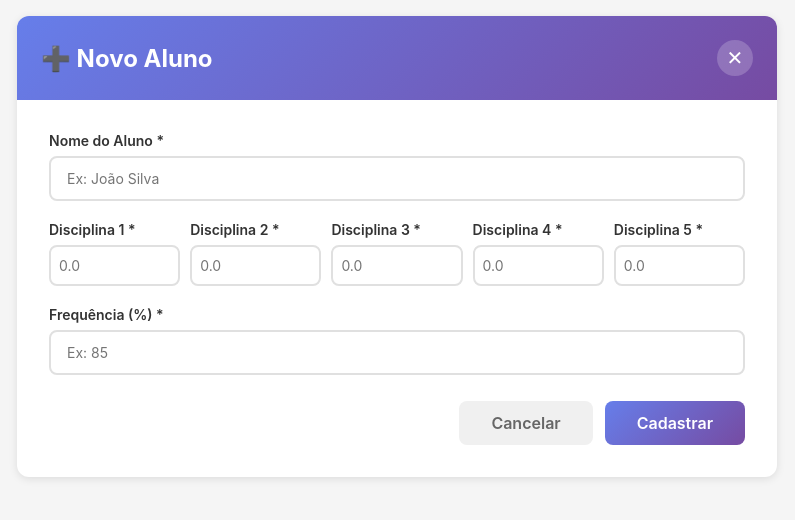
Test case: StudentForm › shows error when attendance is out of range
The image size is (795, 520).
Step 1. Type "Aluno Teste" into the field labelled "Nome do Aluno *" → (397, 178), box 49,156 -> 745,201
Step 2. Type "8" into the number field labelled "Disciplina 1 *" → (115, 266), box 49,245 -> 180,286
Step 3. Type "8" into the number field labelled "Disciplina 2 *" → (256, 266), box 190,245 -> 321,286
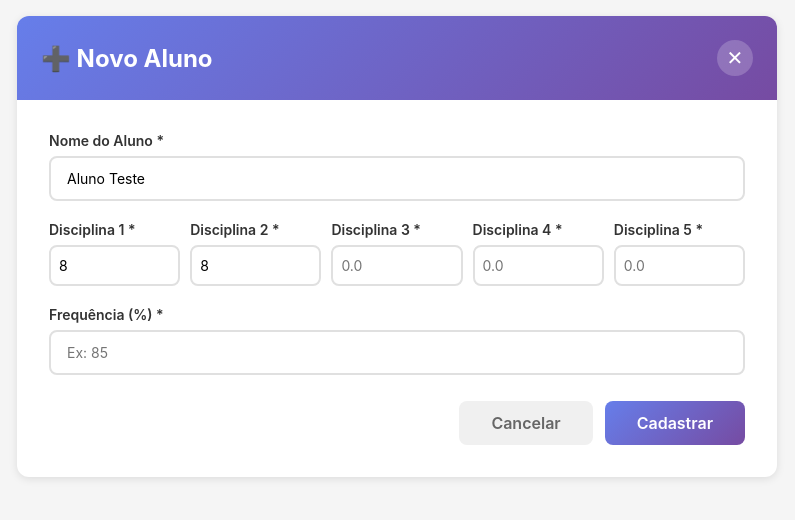
Step 4. Type "8" into the number field labelled "Disciplina 3 *" → (397, 266), box 331,245 -> 463,286
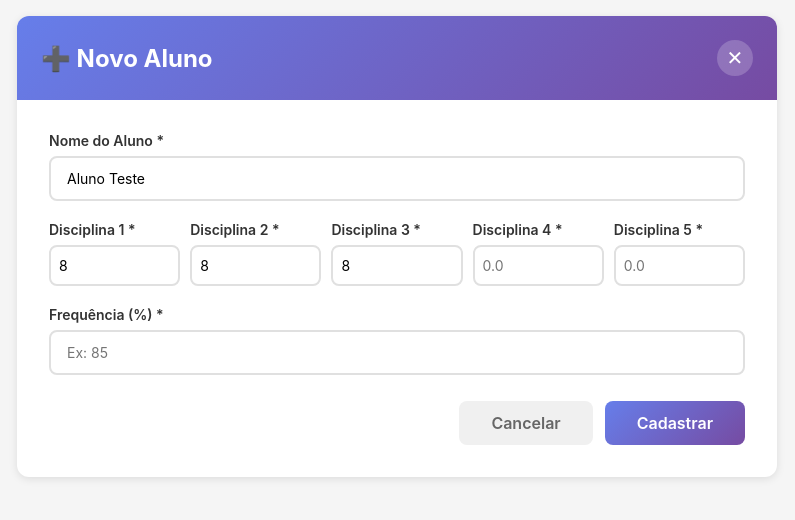
Step 5. Type "8" into the number field labelled "Disciplina 4 *" → (538, 266), box 473,245 -> 604,286
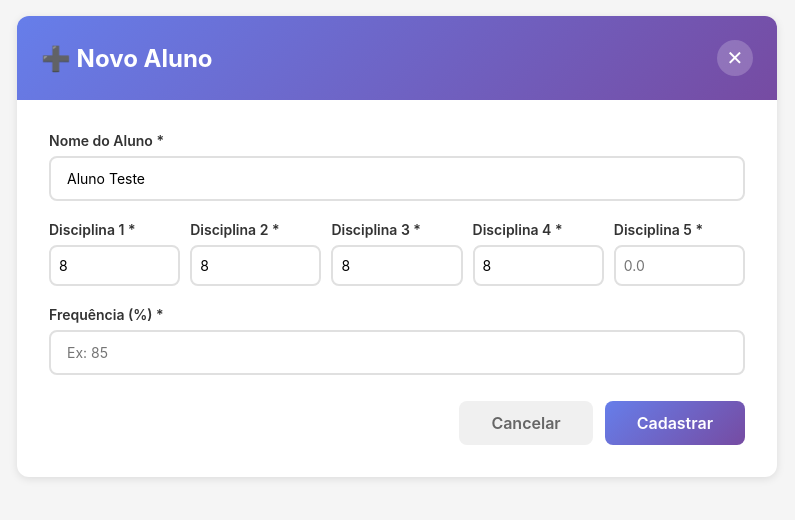
Step 6. Type "8" into the number field labelled "Disciplina 5 *" → (679, 266), box 614,245 -> 745,286
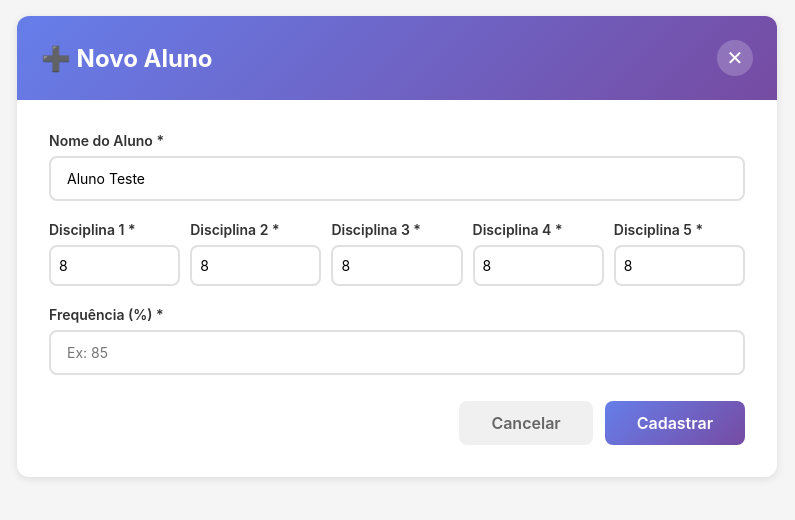
Step 7. Type "150" into the number field labelled "Frequência (%) *" → (397, 352), box 49,330 -> 745,375
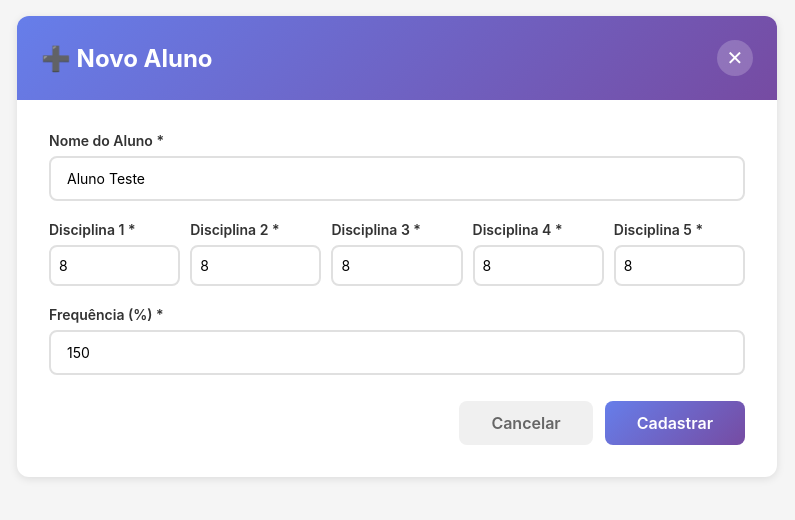
Step 8. Submit the form labelled "Nome do Aluno"
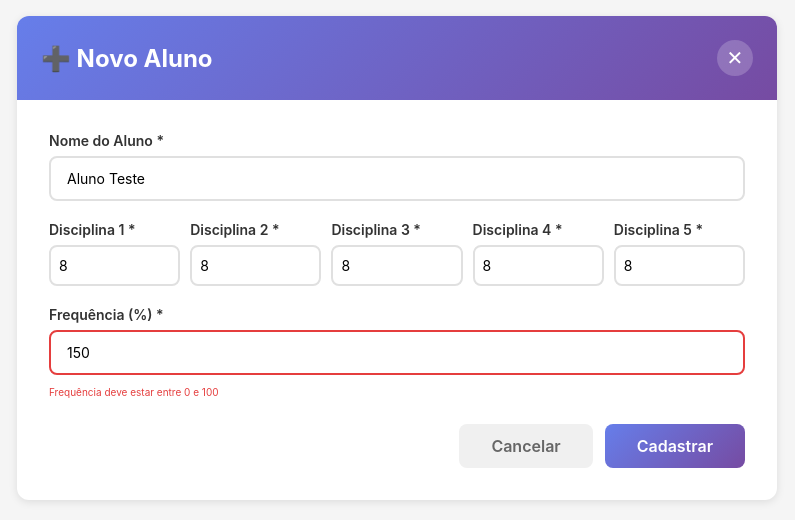
Now the text "Frequência deve estar entre 0 e 100" is shown, box 49,386 -> 218,398
